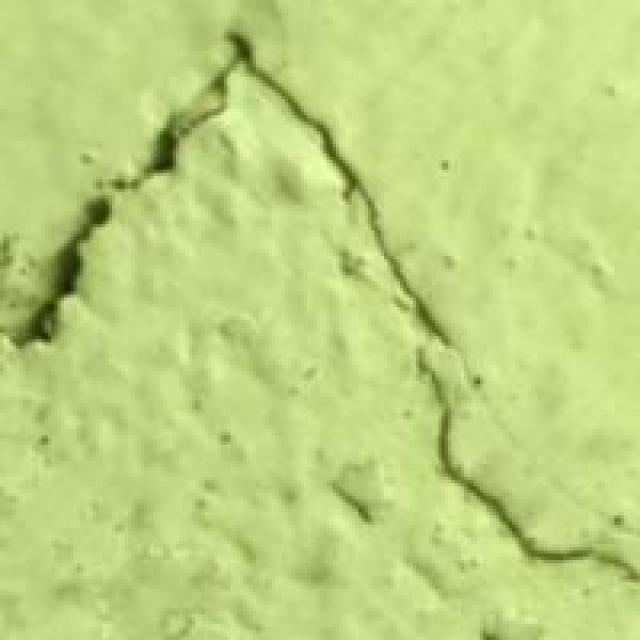Crack: (10, 38, 346, 396)
